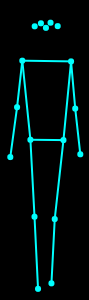mountain: (4, 15, 85, 294)
